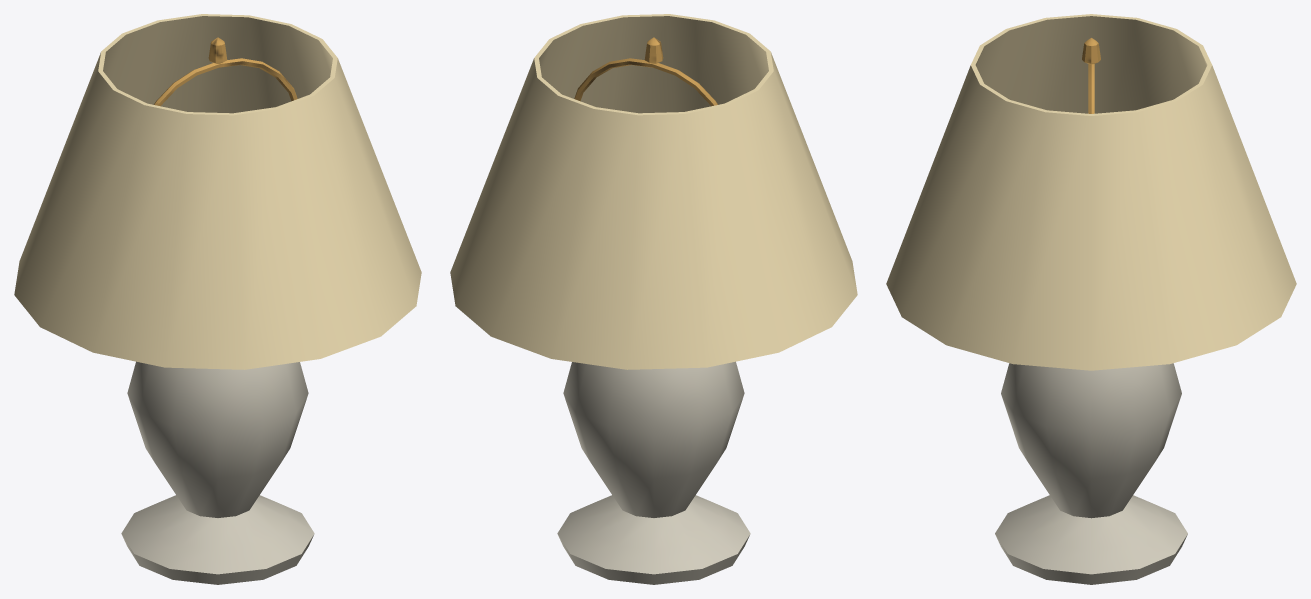
File: FX_TableLamp.fbx
The picture shows the model from 3 angles, left to right: view 1: azimuth 30°, elevation 25°; view 2: azimuth 150°, elevation 25°; view 3: azimuth 270°, elevation 25°; orthographic projection.
Parts seen in each view (by area): view 1: FX_TableLamp_Emissive, FX_TableLamp; view 2: FX_TableLamp_Emissive, FX_TableLamp; view 3: FX_TableLamp_Emissive, FX_TableLamp.
Part boxes in pixels (x1=…): FX_TableLamp_Emissive: x1=14, y1=14, x2=421, y2=369; FX_TableLamp: x1=121, y1=37, x2=314, y2=584; FX_TableLamp_Emissive: x1=450, y1=14, x2=857, y2=369; FX_TableLamp: x1=557, y1=37, x2=750, y2=584; FX_TableLamp_Emissive: x1=886, y1=14, x2=1296, y2=370; FX_TableLamp: x1=995, y1=38, x2=1187, y2=584.
Bounding box in the file's own units: 0.34 × 0.465 × 0.34.
